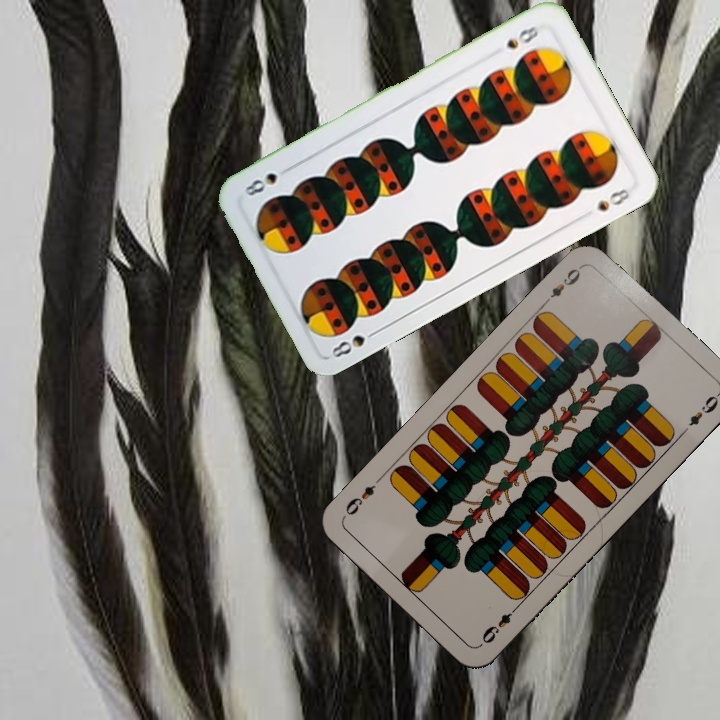E9: (476, 601, 522, 648), (540, 261, 586, 308)
S8: (327, 325, 383, 361), (502, 20, 545, 52)
